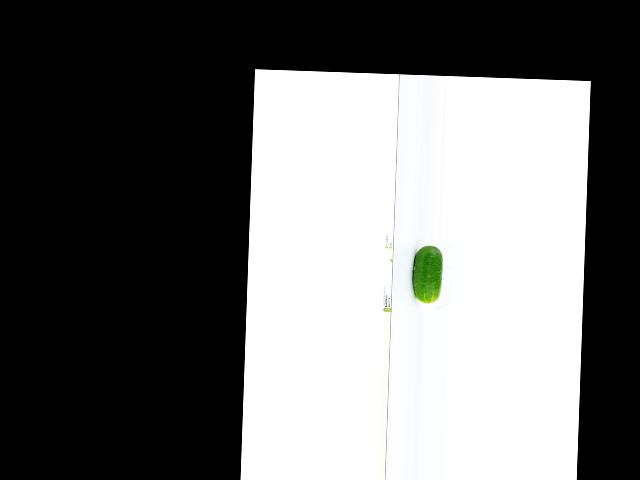cucumber: (411, 244, 442, 303)
